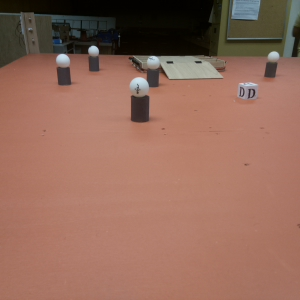obstacle: (131, 78, 148, 123), (55, 56, 74, 85), (146, 57, 159, 87), (265, 52, 279, 79), (87, 45, 101, 71)
side: (128, 53, 144, 71)
slope: (162, 60, 220, 83)
